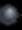bomb: (0, 4, 22, 26)
